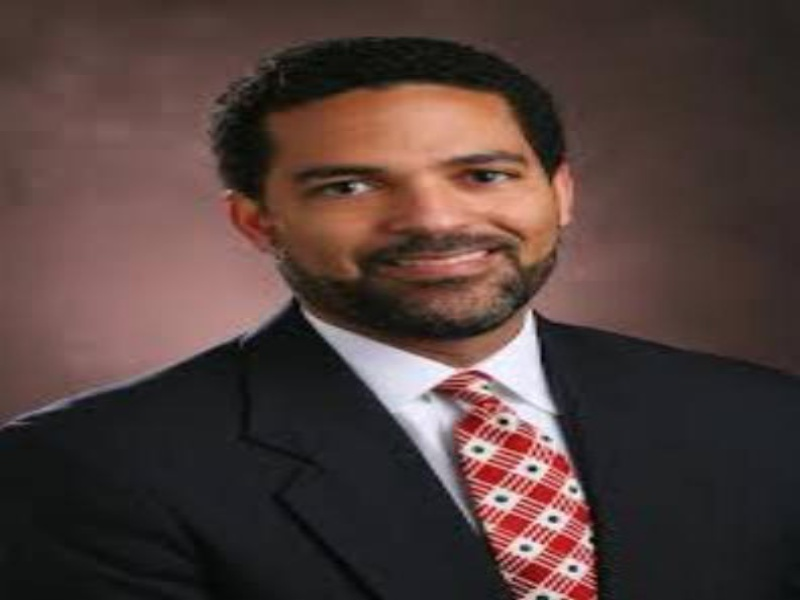TsisyArotava: (196, 23, 646, 410)
